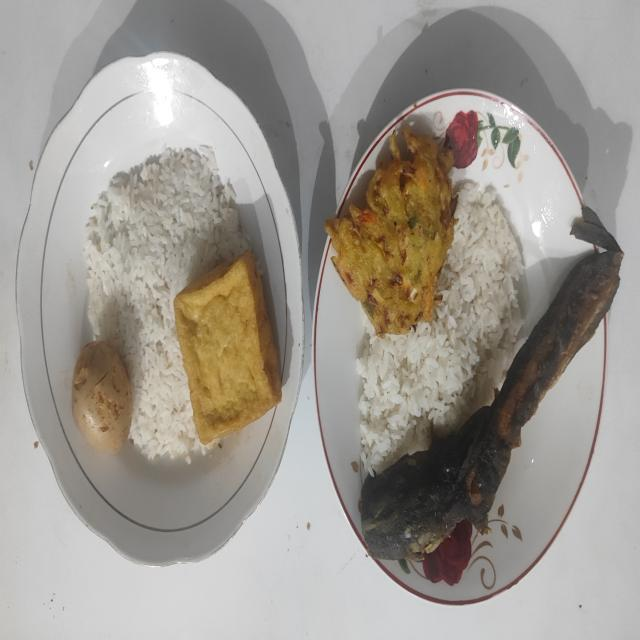nasi_putih: (84, 145, 250, 461), (356, 180, 525, 472)
tahu_goreng: (175, 254, 282, 444)
